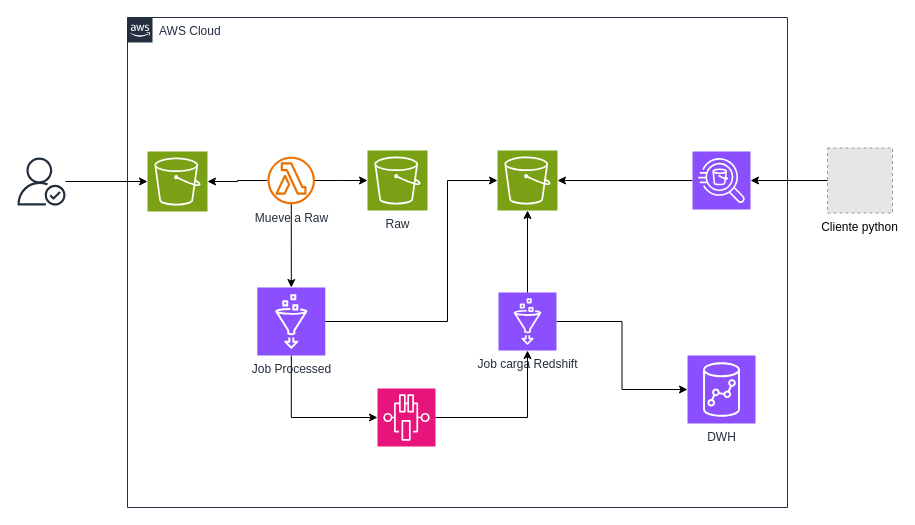
Image size: 915x525. Some labels were removed from this diagram. Grey dashed boxes stand in for pictures. Each missing label, with the centre of its shape:
Athena: the point at 721,180
Entrada de datos: the point at 177,181
Processed: the point at 527,180
Step Function: the point at 406,417
